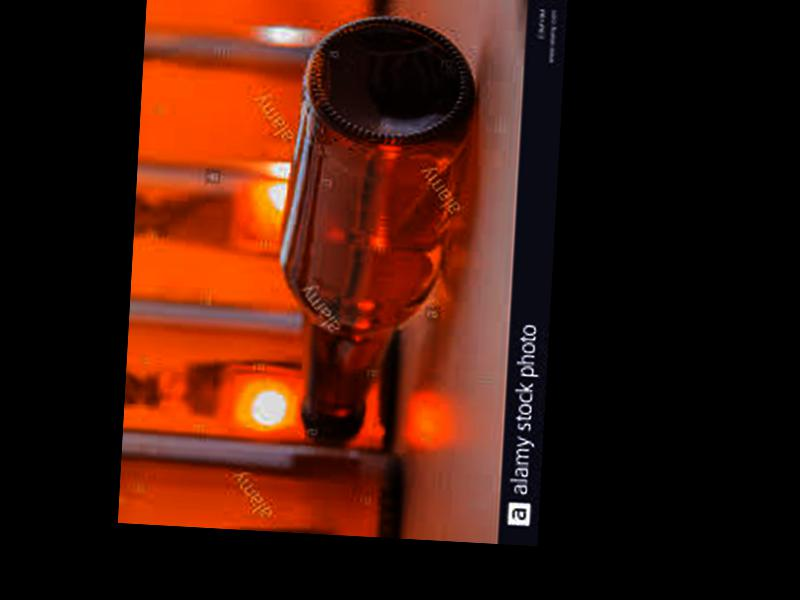Beer: (267, 9, 487, 445)
